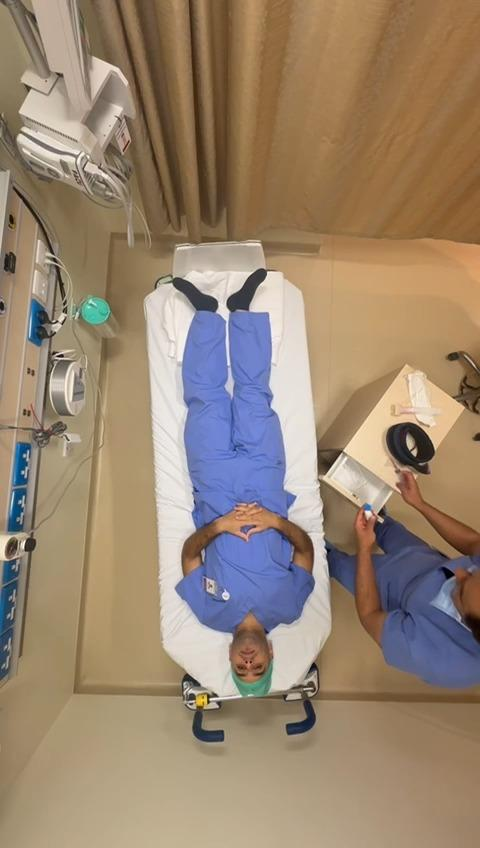bed: (144, 242, 331, 742)
cefazolin: (364, 504, 372, 518)
patient: (174, 272, 315, 691)
tourniquet: (386, 422, 436, 474)
